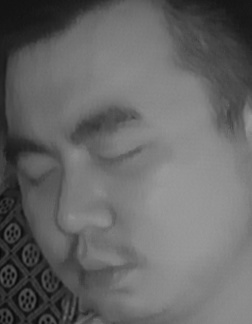blink: (96, 137, 149, 174), (17, 160, 61, 192)
mouth: (65, 243, 141, 295)
